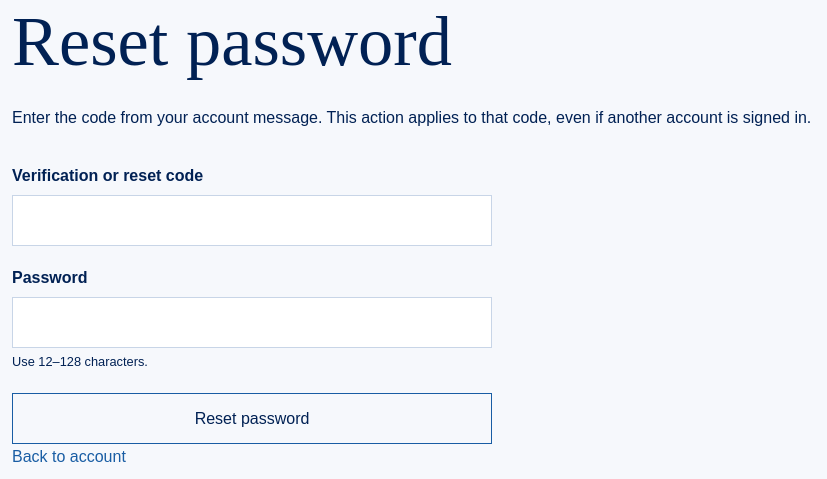
fixed account challenge pages › posts reset explicitly with endpoint CSRF and clears secret fields after success
Type "synthetic-manually-entered-code-123456789" into the field labelled "Verification or reset code" at (252, 220), box [12,195,492,246]
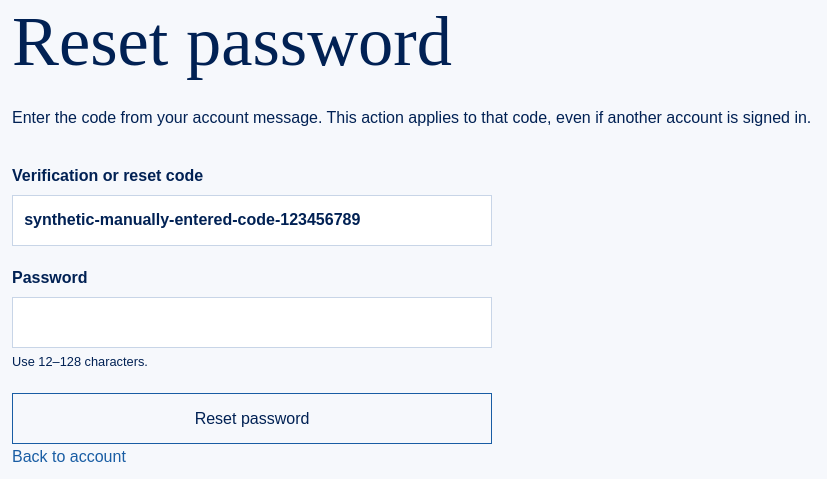
Type "Synthetic-new-password-123" into the password field labelled "Password" at (252, 322), box [12,297,492,348]
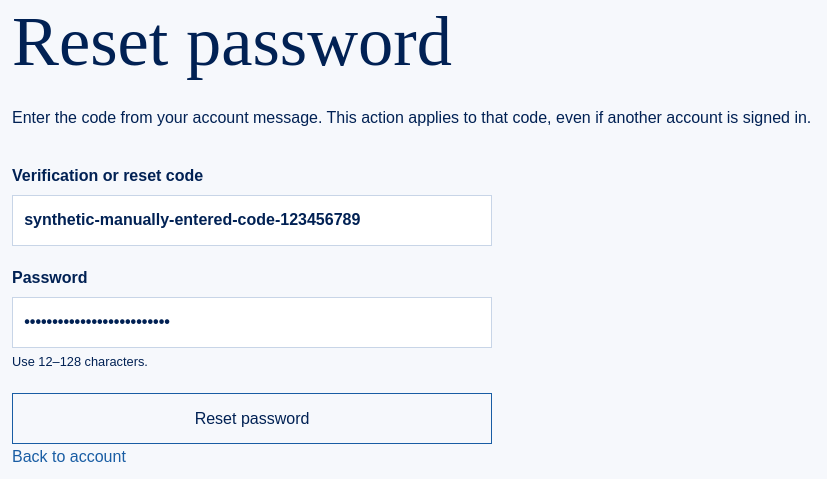
Submit the form, box [12,163,492,444]
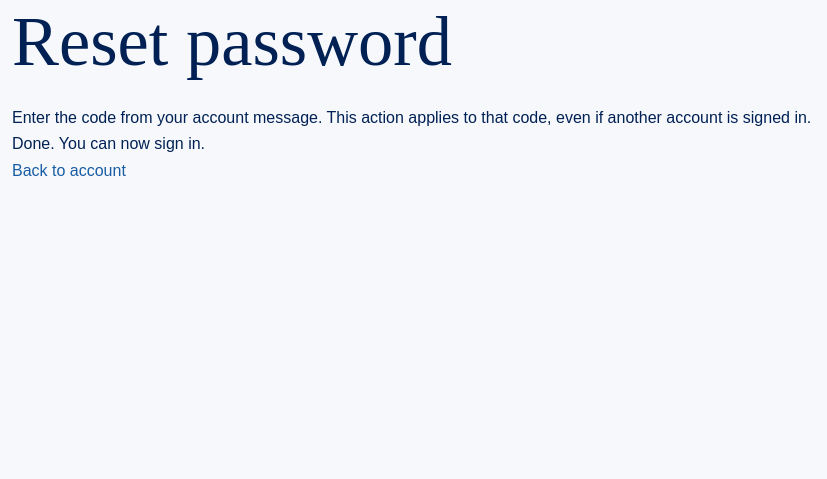
Result: the message reads "Done. You can now sign in." at [12,135,205,152]
Result: the field named "token" is gone
Result: the password field named "password" is gone
